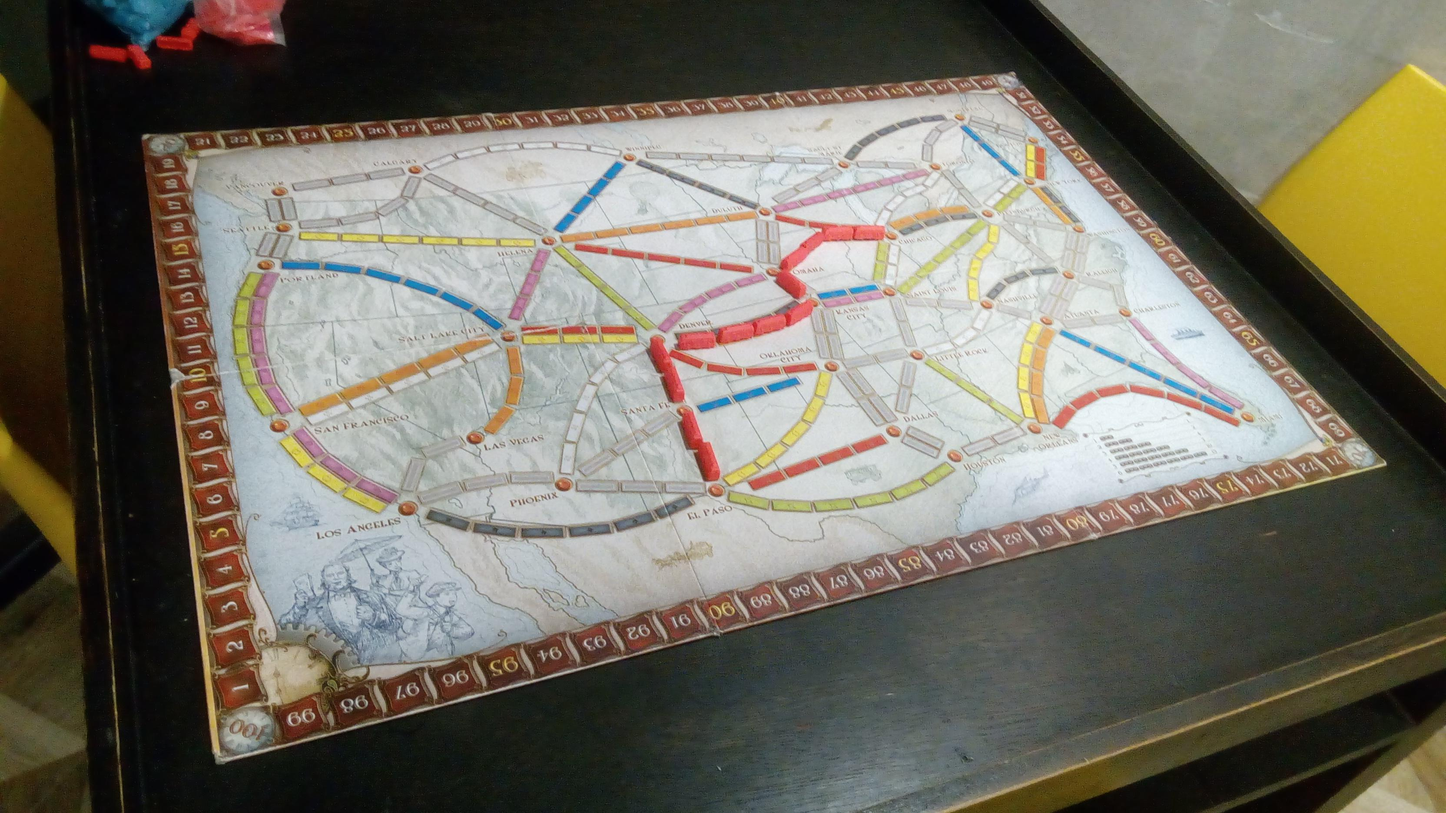red_train: (680, 409, 703, 450), (696, 442, 720, 480), (775, 271, 807, 298), (649, 336, 671, 371), (663, 366, 684, 402), (718, 323, 754, 344), (677, 331, 716, 349), (786, 301, 814, 326), (780, 246, 809, 270), (753, 314, 785, 335), (800, 232, 824, 254), (850, 225, 885, 240), (819, 226, 853, 241)
